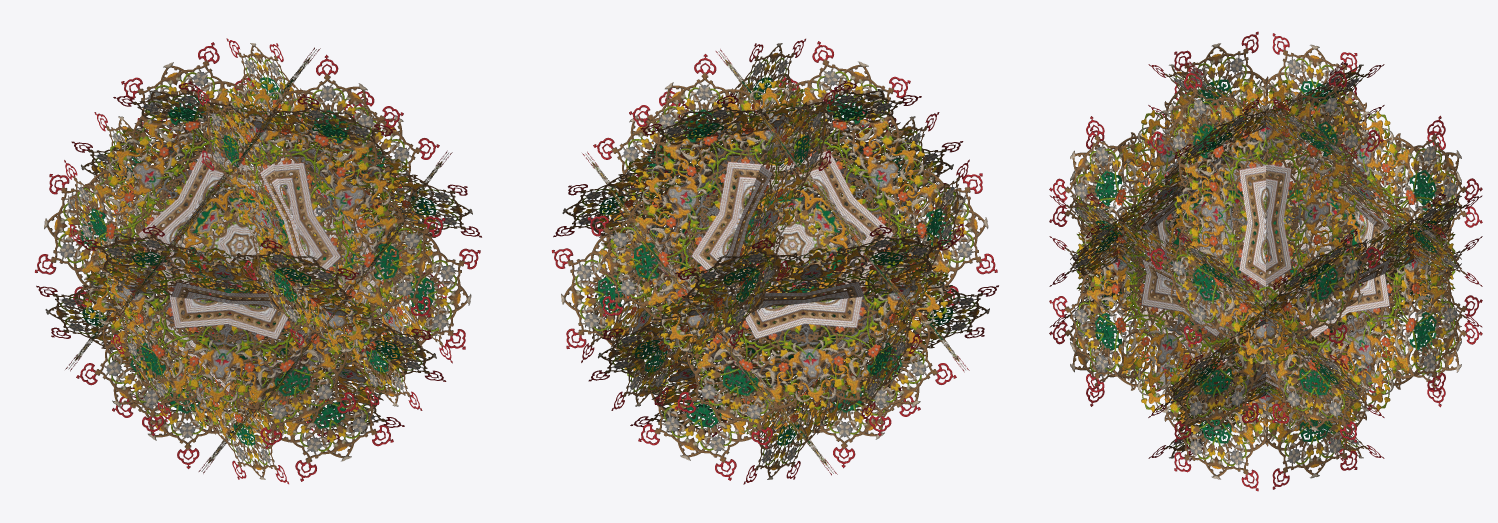
File: GreatTruncatedCuboctahedron7.gltf
3 renders of one model, left to right at view 1: azimuth 30°, elevation 25°; view 2: azimuth 150°, elevation 25°; view 3: azimuth 270°, elevation 25°, orthographic.
Visible parts, largest first — view 1: GreatTruncatedCuboctahedron; view 2: GreatTruncatedCuboctahedron; view 3: GreatTruncatedCuboctahedron.
Boxes of the visible parts, left/top/right/bottom form: GreatTruncatedCuboctahedron: left=35, top=38, right=481, bottom=484; GreatTruncatedCuboctahedron: left=552, top=38, right=998, bottom=484; GreatTruncatedCuboctahedron: left=1049, top=31, right=1482, bottom=491.
Size of the model in its own units: 1.83 by 1.83 by 1.83.
Materials: 1 (1 with a texture image).
